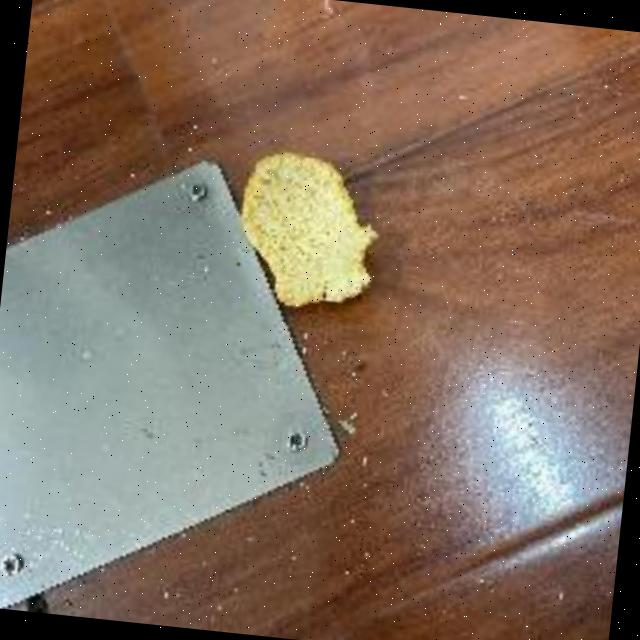orange-peel: (226, 141, 388, 317)
